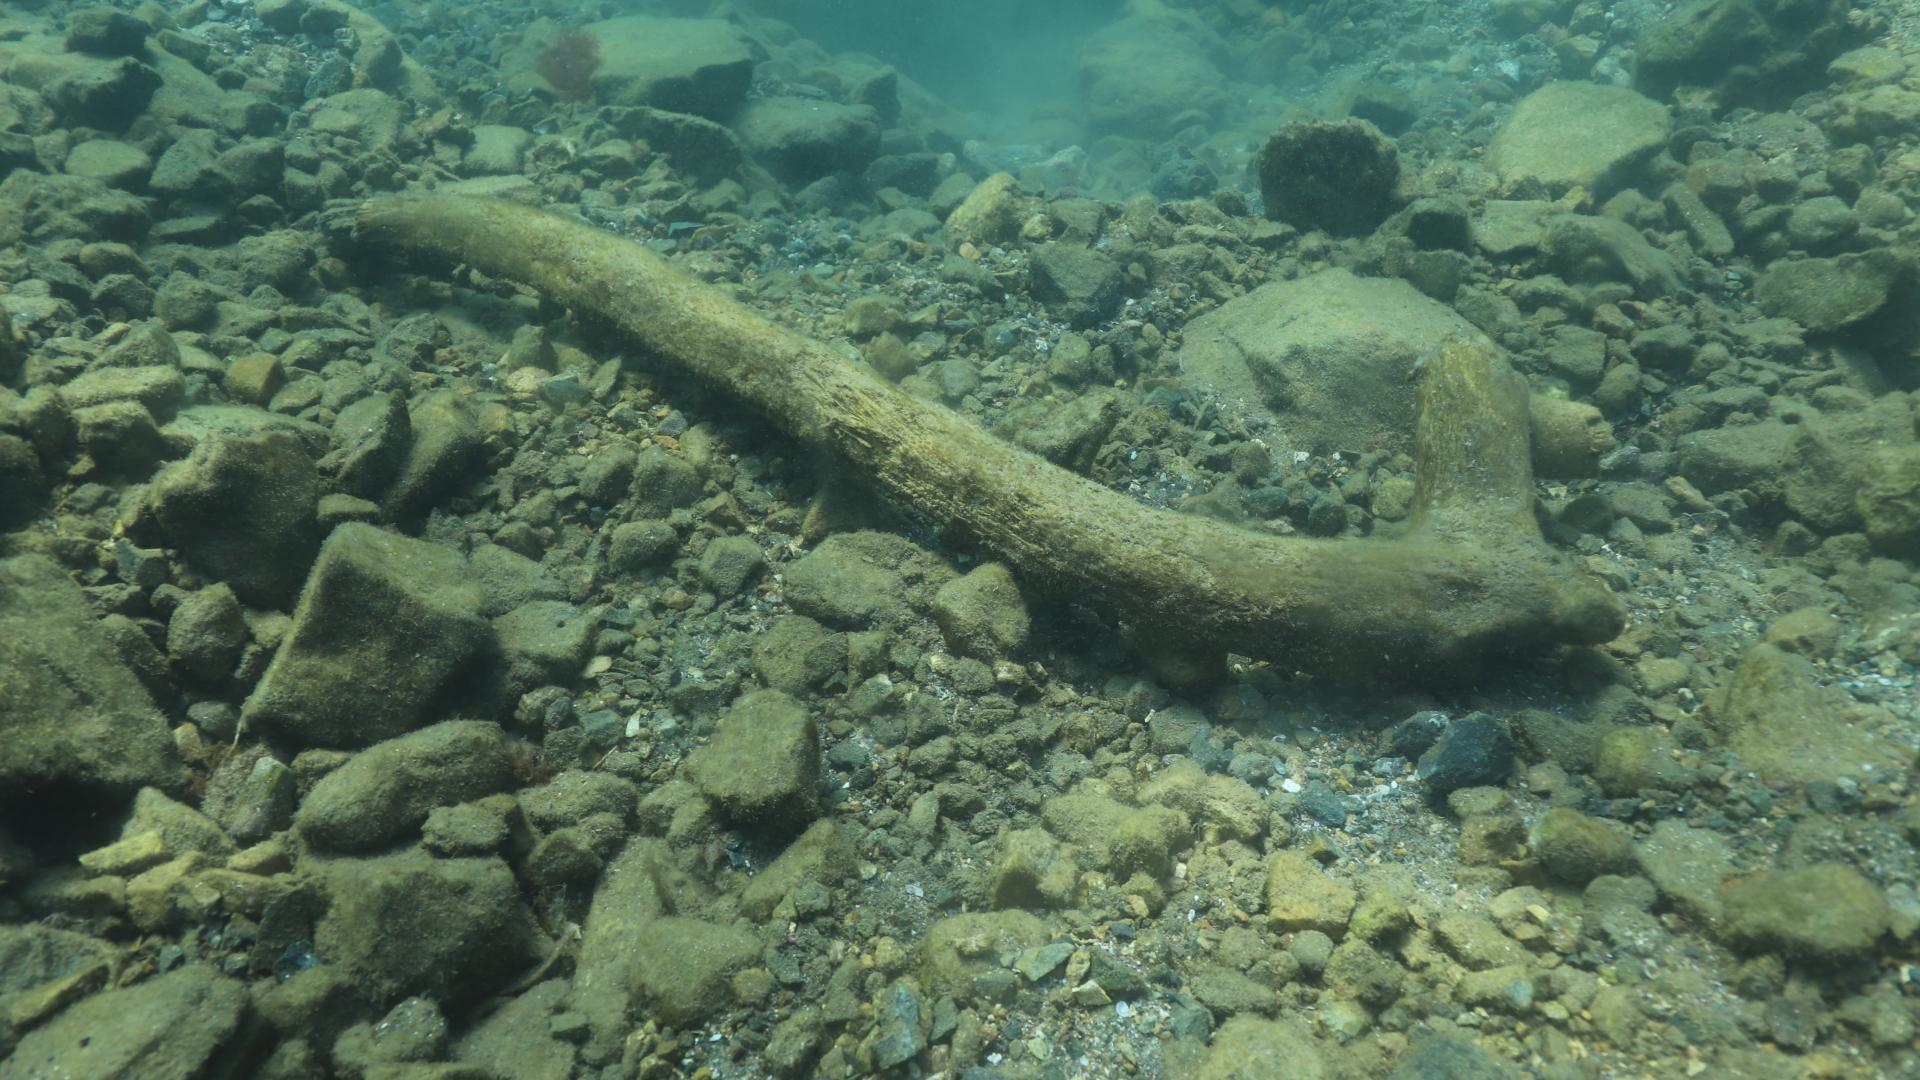wood: (353, 190, 1627, 679)
